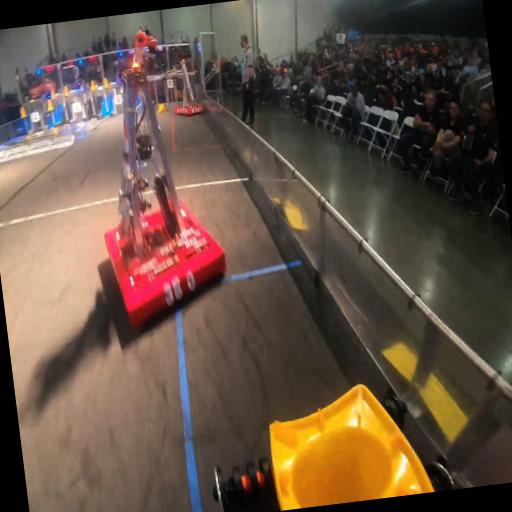robot: (78, 22, 234, 332), (160, 58, 204, 122)
